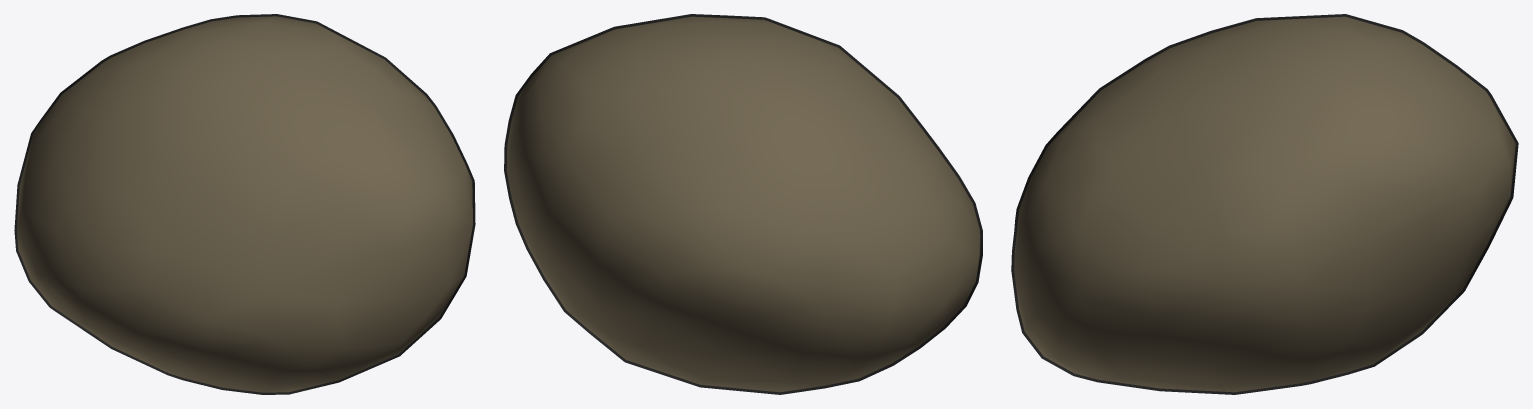
Rendered from tomatoyoungrocks.fbx.
The picture shows the model from 3 angles, left to right: view 1: azimuth 30°, elevation 25°; view 2: azimuth 150°, elevation 25°; view 3: azimuth 270°, elevation 25°; orthographic projection. The views are drawn at different scales.
Visible parts, largest first — view 1: TomYoung_Clod_00; view 2: TomYoung_Clod_00; view 3: TomYoung_Clod_00.
Boxes of the visible parts, left/top/right/bottom form: TomYoung_Clod_00: left=14, top=14, right=475, bottom=394; TomYoung_Clod_00: left=504, top=14, right=982, bottom=394; TomYoung_Clod_00: left=1011, top=14, right=1518, bottom=394.
Size of what is drawn, in the model's own units: 21.83 by 15.79 by 21.03.
